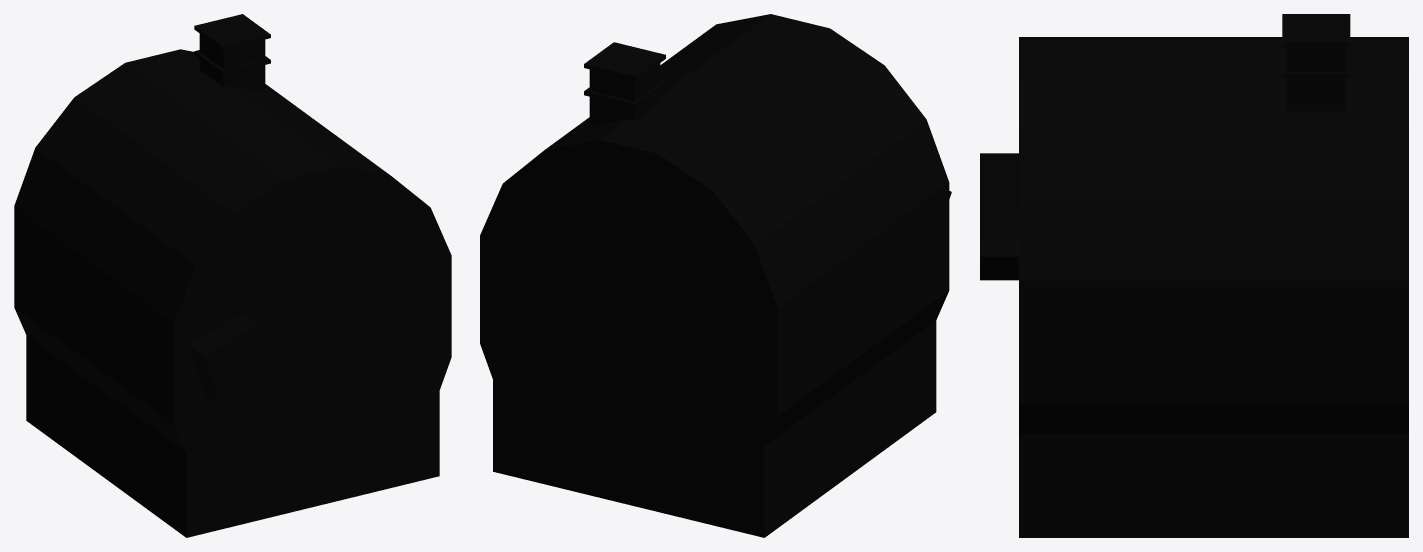
Rendered from v5turbo.obj.
3 views of the same model, side by side, from view 1: azimuth 30°, elevation 25°; view 2: azimuth 150°, elevation 25°; view 3: azimuth 270°, elevation 25° (orthographic). The views are drawn at different scales.
Visible parts, largest first — view 1: hexadecagon, cube, turbo; view 2: hexadecagon, cube; view 3: hexadecagon, cube, turbo.
Boxes of the visible parts, x1,y1,x2,y2 form: hexadecagon: (14,49,451,513); cube: (26,14,439,537); turbo: (188,314,273,423); hexadecagon: (480,14,949,511); cube: (493,42,936,537); hexadecagon: (1019,37,1408,433); cube: (1019,14,1408,537); turbo: (980,153,1018,280).
Bounding box in the file's own units: 0.4219 × 0.5485 × 0.4641.
